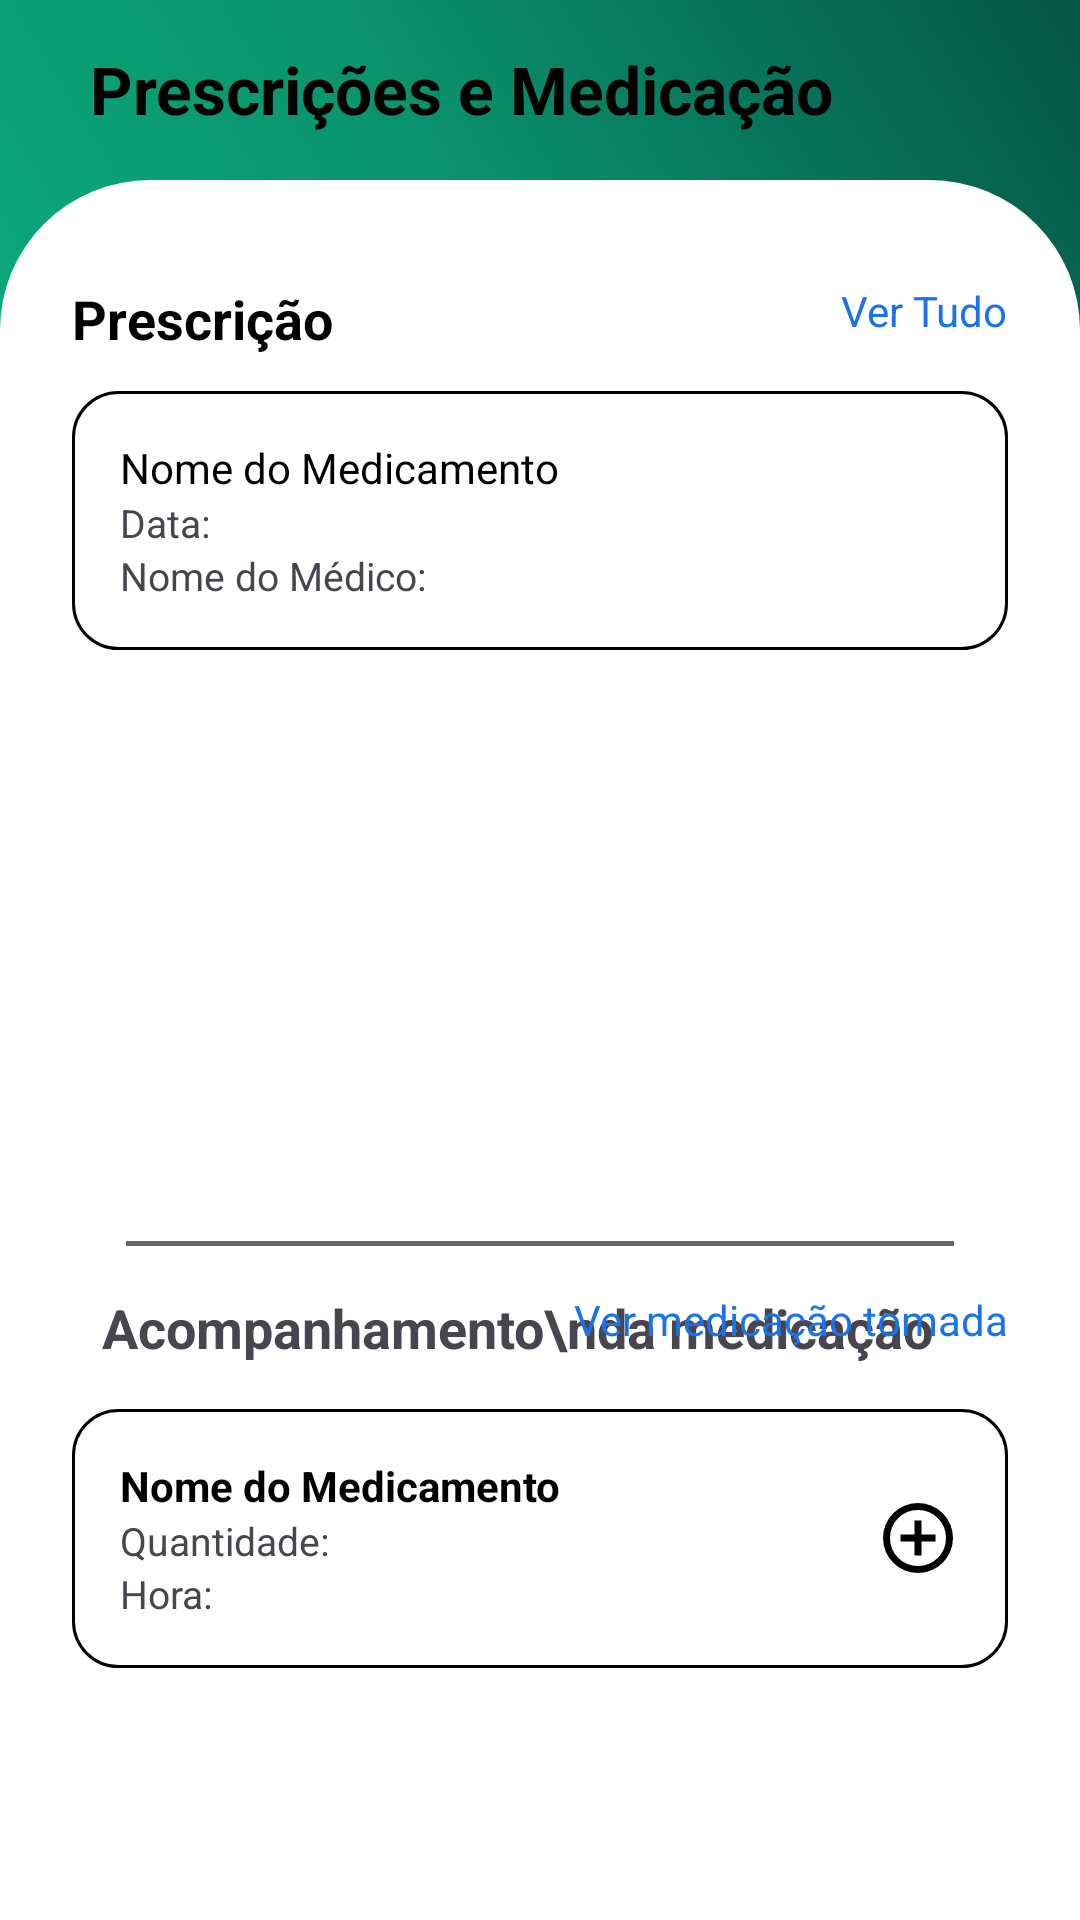

Screen size 1080w x 1920h. Icon name, then its center in pixels as (x=x, y=y):
adicionar: (x=918, y=1538)
